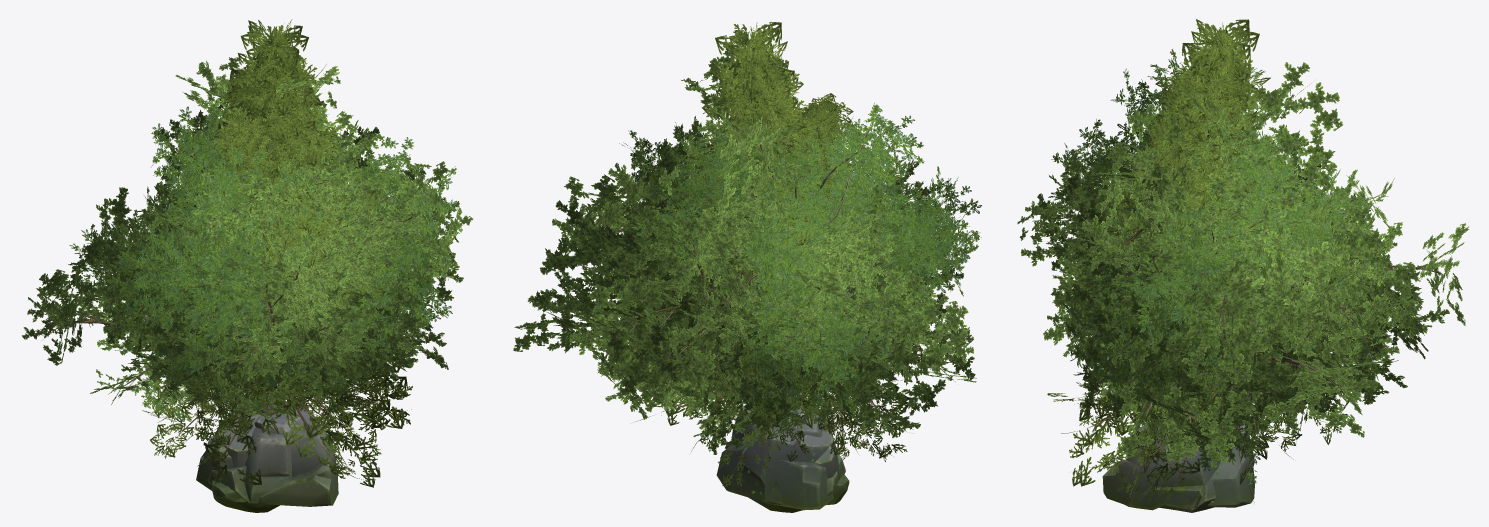
The model's file is nature.glb.
3 renders of one model, left to right at view 1: azimuth 30°, elevation 25°; view 2: azimuth 150°, elevation 25°; view 3: azimuth 270°, elevation 25°, orthographic. The views are drawn at different scales.
Visible parts, largest first — view 1: Oak_3_lod0, Pine_3_lod0, Oak_1_lod0, Ash_1_lod0, Ash_2_lod0, Oak_2_lod0, Pine_2_lod0, Rock_Medium_3_lod0, Pine_1_lod0, Rock_Medium_1_lod0, Rock_Medium_2_lod0; view 2: Oak_3_lod0, Ash_1_lod0, Ash_2_lod0, Oak_1_lod0, Pine_3_lod0, Oak_2_lod0, Pine_2_lod0, Rock_Medium_2_lod0, Pine_1_lod0, Rock_Medium_3_lod0, Rock_Medium_1_lod0; view 3: Oak_3_lod0, Ash_1_lod0, Pine_3_lod0, Oak_1_lod0, Ash_2_lod0, Rock_Medium_3_lod0, Oak_2_lod0, Pine_1_lod0, Rock_Medium_2_lod0, Pine_2_lod0, Rock_Medium_1_lod0.
Part boxes in pixels (x1,y1,x2,y2): Oak_3_lod0: (22, 57, 472, 404); Pine_3_lod0: (129, 19, 412, 487); Oak_1_lod0: (97, 154, 418, 422); Ash_1_lod0: (107, 107, 459, 415); Ash_2_lod0: (69, 106, 453, 422); Oak_2_lod0: (115, 149, 408, 403); Pine_2_lod0: (141, 114, 355, 474); Rock_Medium_3_lod0: (212, 401, 338, 512); Pine_1_lod0: (142, 95, 393, 464); Rock_Medium_1_lod0: (207, 415, 300, 503); Rock_Medium_2_lod0: (196, 407, 249, 490); Oak_3_lod0: (513, 45, 976, 437); Ash_1_lod0: (619, 115, 981, 450); Ash_2_lod0: (611, 103, 969, 447); Oak_1_lod0: (623, 121, 938, 454); Pine_3_lod0: (635, 21, 923, 451); Oak_2_lod0: (642, 152, 924, 416); Pine_2_lod0: (661, 93, 907, 486); Rock_Medium_2_lod0: (716, 429, 833, 510); Pine_1_lod0: (701, 117, 902, 461); Rock_Medium_3_lod0: (725, 392, 849, 505); Rock_Medium_1_lod0: (732, 401, 845, 512); Oak_3_lod0: (1049, 62, 1469, 467); Ash_1_lod0: (1048, 68, 1382, 412); Pine_3_lod0: (1047, 19, 1307, 502); Oak_1_lod0: (1017, 141, 1404, 454); Ash_2_lod0: (1067, 49, 1370, 471); Rock_Medium_3_lod0: (1102, 422, 1229, 510); Oak_2_lod0: (1079, 135, 1363, 435); Pine_1_lod0: (1076, 97, 1283, 500); Rock_Medium_2_lod0: (1207, 419, 1254, 507); Pine_2_lod0: (1079, 69, 1347, 491); Rock_Medium_1_lod0: (1159, 415, 1254, 512).
Size of what is drawn, in the model's own units: 13.02 by 13.32 by 11.25.
8 materials, 8 textured.
